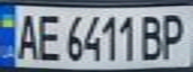1: (118, 11, 142, 62), (100, 11, 121, 62)
4: (81, 11, 103, 62)
6: (60, 11, 84, 62)
A: (12, 9, 42, 61)
B: (136, 11, 169, 61)
E: (33, 9, 63, 62)
P: (157, 10, 190, 61)
